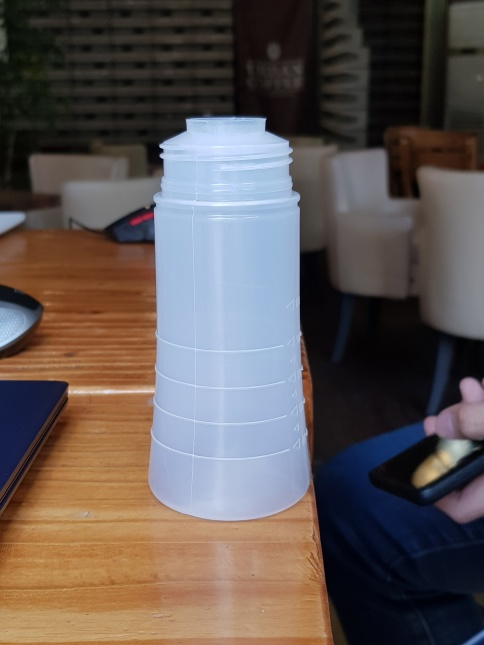Plastic: (145, 114, 315, 519)
